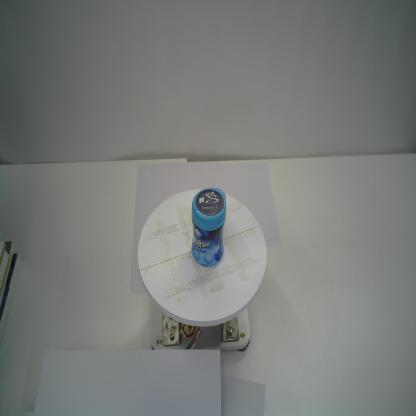Gum: (190, 187, 227, 268)
